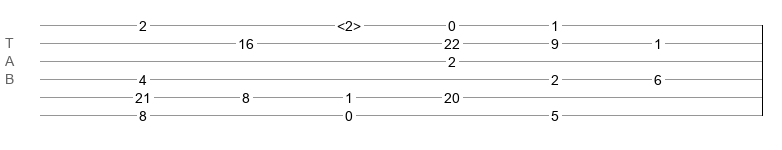0: (345, 108, 353, 118), (448, 18, 456, 28)
1: (345, 90, 353, 100), (551, 18, 559, 28), (654, 36, 662, 46)
16: (238, 36, 254, 46)
2: (139, 18, 147, 28), (448, 54, 456, 64), (551, 72, 559, 82)
20: (444, 90, 460, 100)
21: (135, 90, 151, 100)
22: (444, 36, 460, 46)
4: (139, 72, 147, 82)
5: (551, 108, 559, 118)
6: (654, 72, 662, 82)
8: (139, 108, 147, 118), (242, 90, 250, 100)
9: (551, 36, 559, 46)
harmonic: (337, 18, 361, 28)
